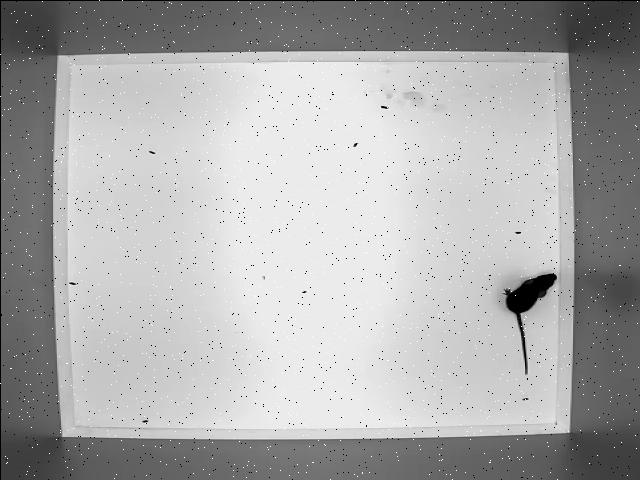Tikus: (483, 269, 558, 376)
